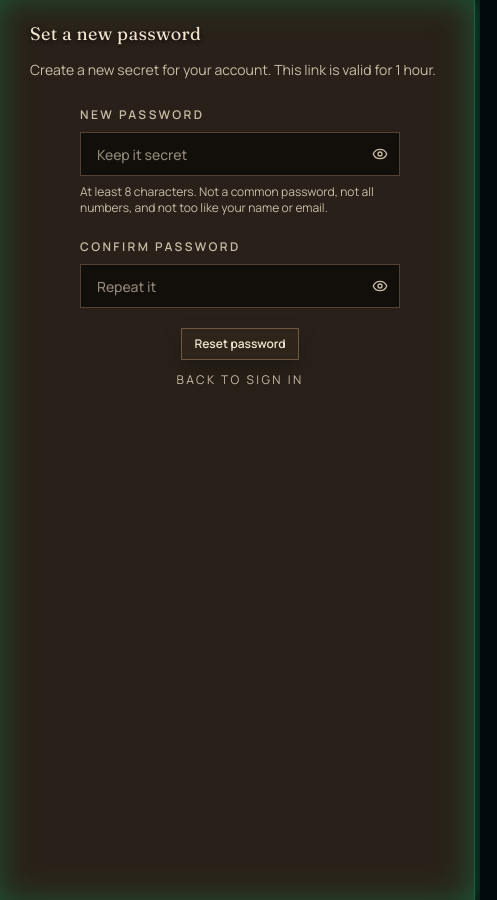
ResetPassword (AUTH-TEST-27) › signs this device out after a reset, since the server has ended every session, so Sign in starts afresh
This screenshot has width=497, height=900.
Step 1. Type "wyrdstone-42" into the password field labelled "New password" → (240, 154), box [80,132,400,176]
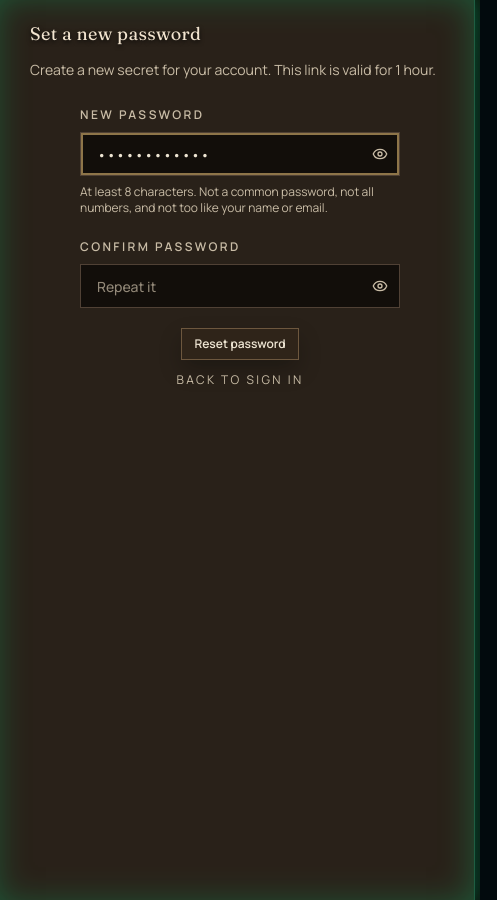
Step 2. Type "wyrdstone-42" into the password field labelled "Confirm password" → (240, 286), box [80,264,400,308]
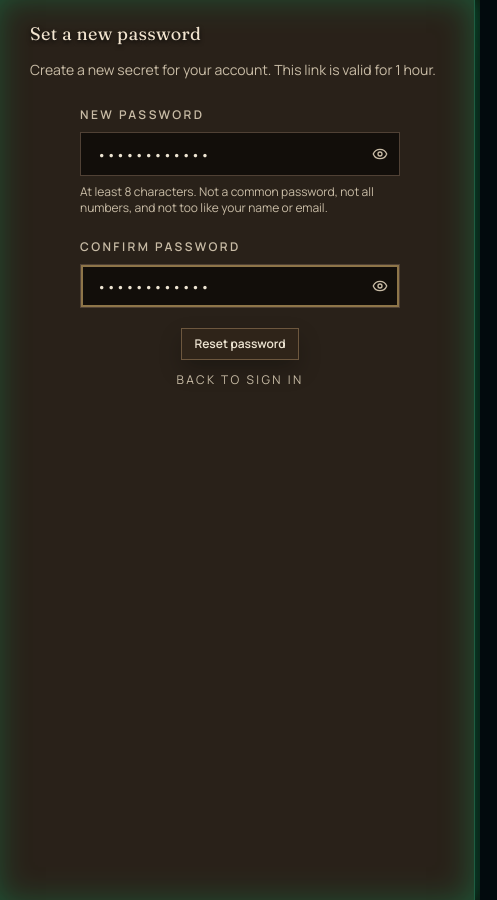
Step 3. Click the button "Reset password" → (240, 344), box [181,328,299,360]
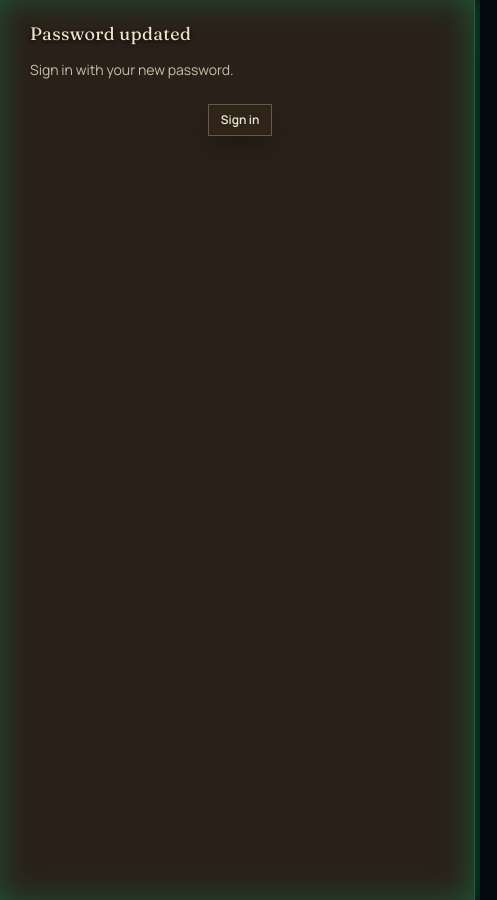
Now the text "Password updated" is shown, box [30,22,191,45]
